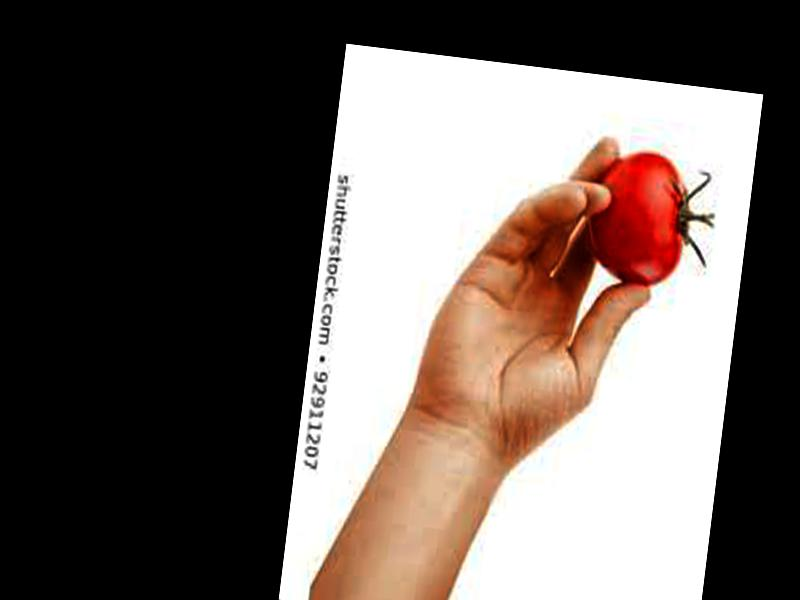Tomato: (580, 145, 693, 290)
